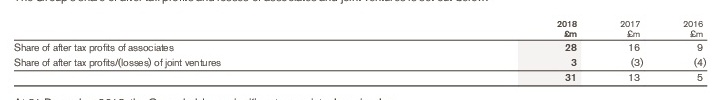table: (0, 0, 724, 100)
